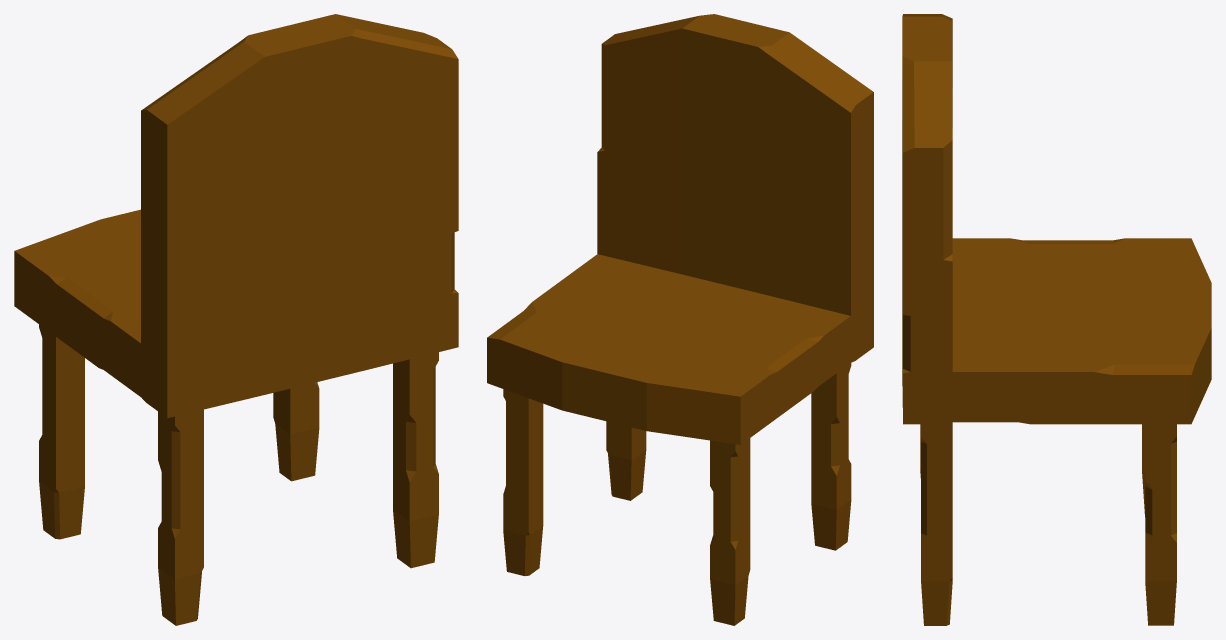
Rendered from Chair.fbx.
3 renders of one model, left to right at view 1: azimuth 30°, elevation 25°; view 2: azimuth 150°, elevation 25°; view 3: azimuth 270°, elevation 25°, orthographic. The views are drawn at different scales.
Visible parts, largest first — view 1: Chiar, Chair_Leg2, Chair_Leg4, Chair_Leg1, Chair_Leg3; view 2: Chiar, Chair_Leg1, Chair_Leg3, Chair_Leg2, Chair_Leg4; view 3: Chiar, Chair_Leg4, Chair_Leg3.
Part boxes in pixels (x1,y1,x2,y2): Chiar: (14, 14, 458, 418); Chair_Leg2: (158, 409, 203, 625); Chair_Leg4: (393, 352, 438, 568); Chair_Leg1: (39, 324, 84, 539); Chair_Leg3: (273, 382, 319, 481); Chiar: (487, 14, 873, 444); Chair_Leg1: (710, 438, 750, 625); Chair_Leg3: (503, 389, 543, 575); Chair_Leg2: (811, 363, 851, 550); Chair_Leg4: (606, 421, 646, 500); Chiar: (902, 14, 1211, 424); Chair_Leg4: (921, 422, 952, 625); Chair_Leg3: (1145, 424, 1176, 625).
Bounding box in the file's own units: 21.75 × 39.86 × 21.23.
